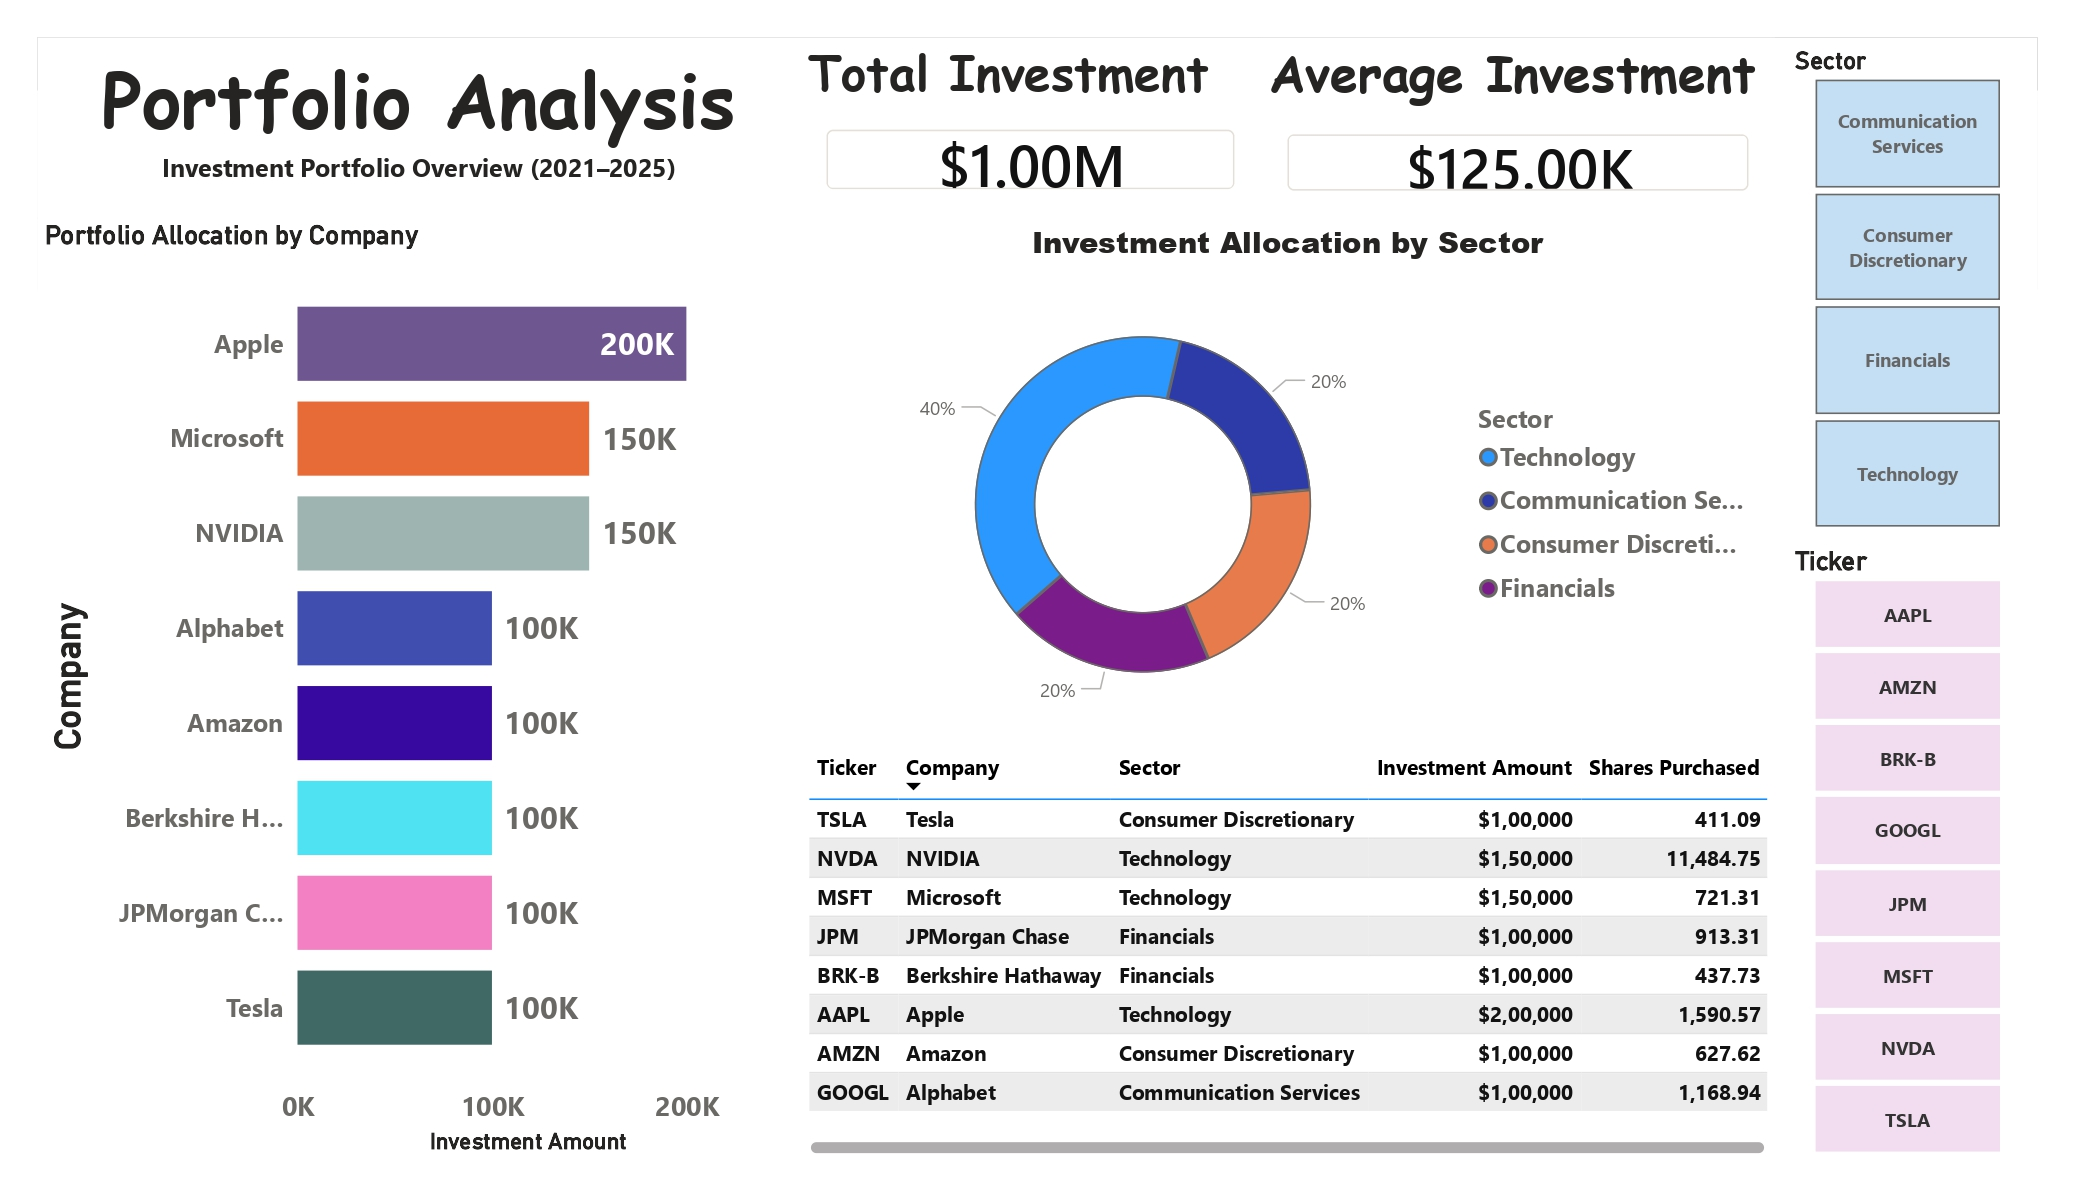

The page's visual inventory and layout, read from the dashboard file:
{"tool":"powerbi","page":{"name":"Page 1","canvas":[1280,720],"ordinal":0},"visuals":[{"type":"donutChart","title":"Investment Allocation by Sector","fields":{"Y":["Count(portfolio_analysis portfolio_holdings.Investment Amount)"],"Category":["portfolio_analysis portfolio_holdings.Sector"]},"box":[488.3,116.7,623.3,333.3],"z":0},{"type":"clusteredBarChart","title":"Portfolio Allocation by Company","fields":{"Category":["portfolio_analysis portfolio_holdings.Company"],"Y":["Sum(portfolio_analysis portfolio_holdings.Investment Amount)"]},"box":[0,116.4,488.2,603.6],"z":1000},{"type":"slicer","fields":{"Values":["portfolio_analysis portfolio_holdings.Ticker"]},"box":[1111.7,320,168.3,400],"z":2000},{"type":"slicer","fields":{"Values":["portfolio_analysis portfolio_holdings.Sector"]},"box":[1111.7,0,168.3,320],"z":3000},{"type":"tableEx","fields":{"Values":["portfolio_analysis portfolio_holdings.Ticker","portfolio_analysis portfolio_holdings.Company","portfolio_analysis portfolio_holdings.Sector","portfolio_analysis portfolio_holdings.Investment Amount","portfolio_analysis portfolio_holdings.Shares Purchased"]},"box":[488.3,450,623.3,270],"z":4000},{"type":"textbox","box":[0,0,488.2,115.5],"z":5000},{"type":"cardVisual","title":"Total Investment","fields":{"Data":["Sum(portfolio_analysis portfolio_holdings.Investment Amount)"]},"box":[488.3,0,295,115],"z":6000},{"type":"cardVisual","title":"Average  Investment","fields":{"Data":["Avg(portfolio_analysis portfolio_holdings.Investment Amount)"]},"box":[783.3,0,328.3,115],"z":7000}]}

Visuals, with their boxes on the page's 1280x720 design canvas (x1, y1, x2, y2). These are canvas units, not pixel positions in the 2075x1200 screenshot, which may show the page scaled, cropped or inside an application window:
"Investment Allocation by Sector" donutChart: Rect(488, 117, 1112, 450)
"Portfolio Allocation by Company" clusteredBarChart: Rect(0, 116, 488, 720)
slicer - portfolio_analysis portfolio_holdings.Ticker: Rect(1112, 320, 1280, 720)
slicer - portfolio_analysis portfolio_holdings.Sector: Rect(1112, 0, 1280, 320)
tableEx - portfolio_analysis portfolio_holdings.Ticker x portfolio_analysis portfolio_holdings.Company: Rect(488, 450, 1112, 720)
textbox: Rect(0, 0, 488, 116)
"Total Investment" cardVisual: Rect(488, 0, 783, 115)
"Average  Investment" cardVisual: Rect(783, 0, 1112, 115)
